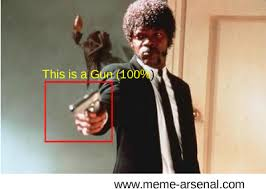gun: (68, 85, 109, 135)
